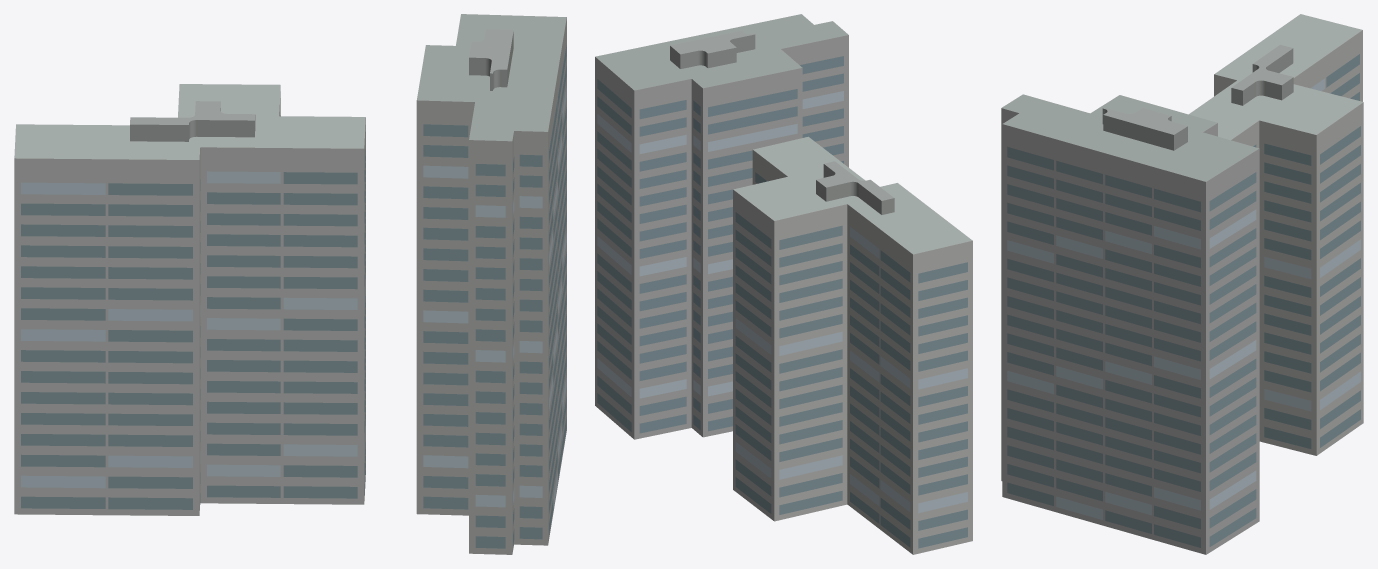
The model's file is apt-a10023118.glb.
3 views of the same model, side by side, from view 1: azimuth 30°, elevation 25°; view 2: azimuth 150°, elevation 25°; view 3: azimuth 270°, elevation 25° (orthographic). The views are drawn at different scales.
Visible parts, largest first — view 1: apt-a10023118; view 2: apt-a10023118; view 3: apt-a10023118.
Boxes of the visible parts, x1,y1,x2,y2 form: apt-a10023118: [14, 14, 566, 554]; apt-a10023118: [595, 14, 972, 554]; apt-a10023118: [1001, 14, 1363, 554].
Size of the model in its own units: 71.61 by 59 by 49.87.
